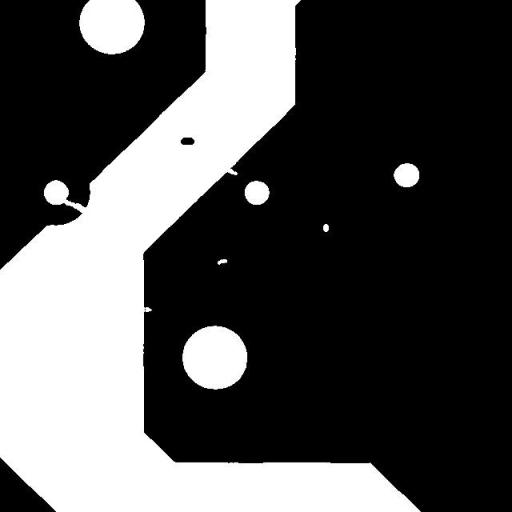copper: (172, 130, 202, 152)
mousebite: (131, 298, 159, 320), (216, 161, 245, 182)
open: (54, 191, 98, 220)
pin-hole: (210, 251, 234, 272), (315, 216, 336, 239)
